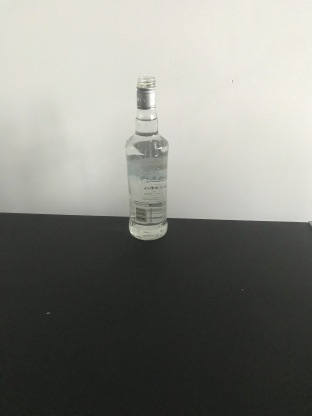nakretka: (134, 75, 158, 110)
